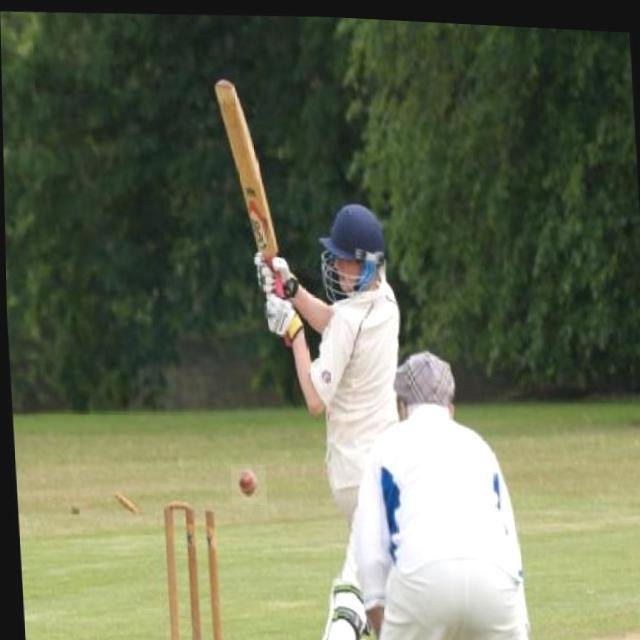-: (228, 461, 264, 502)
